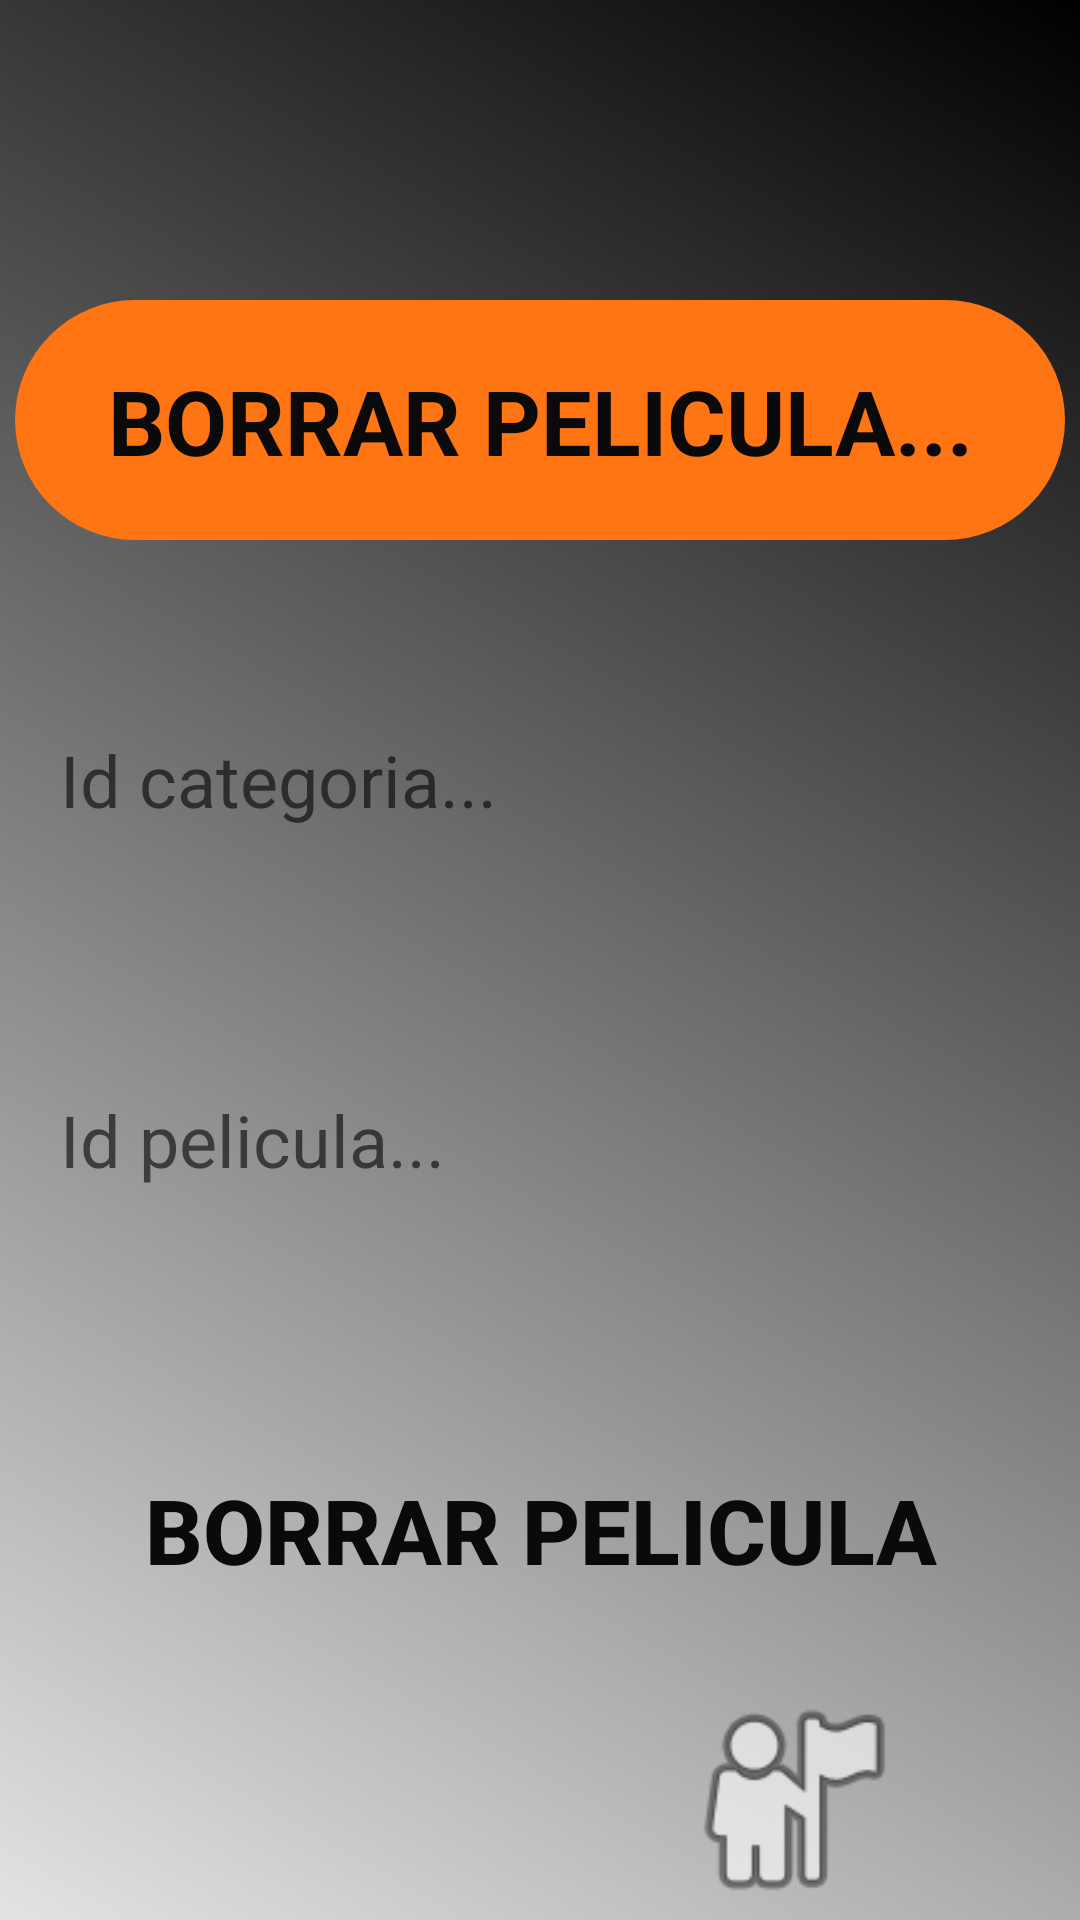

Screen size 1080w x 1920h. Icon name, then its center in pixels as [x,y]:
myplaces: [794,1799]
